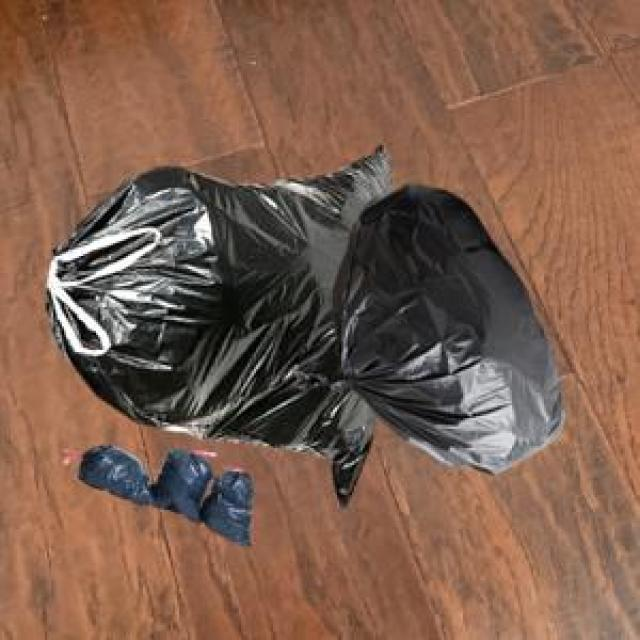Vinyl: (49, 148, 561, 499), (79, 446, 250, 543)
